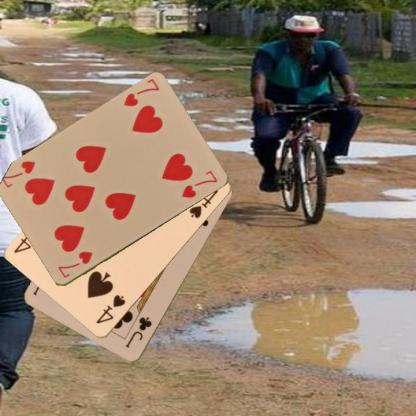4s: (94, 292, 126, 326)
7h: (121, 76, 160, 109), (56, 248, 94, 280)
Jc: (123, 314, 153, 350)
